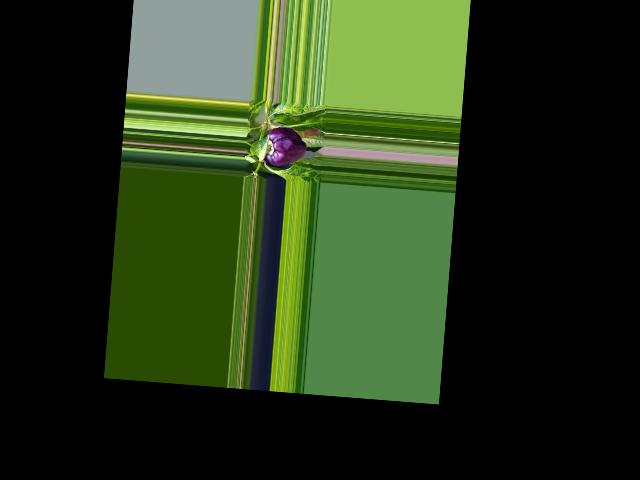bell_pepper: (260, 124, 309, 167)
